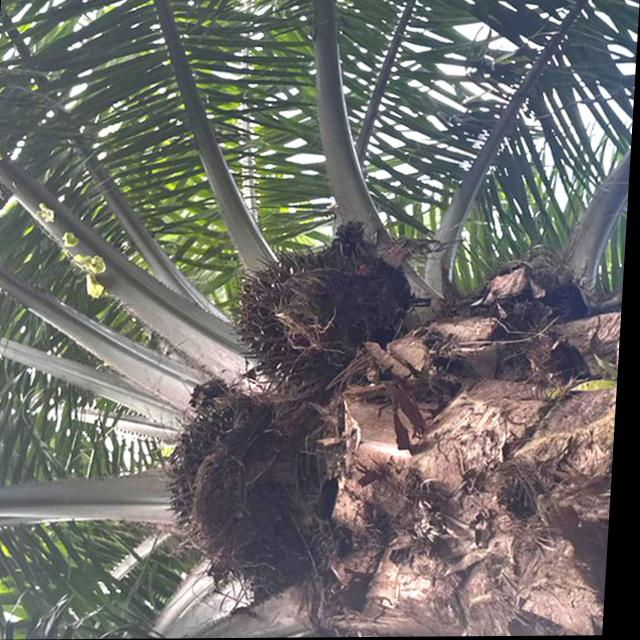ripe: (213, 234, 433, 408)
